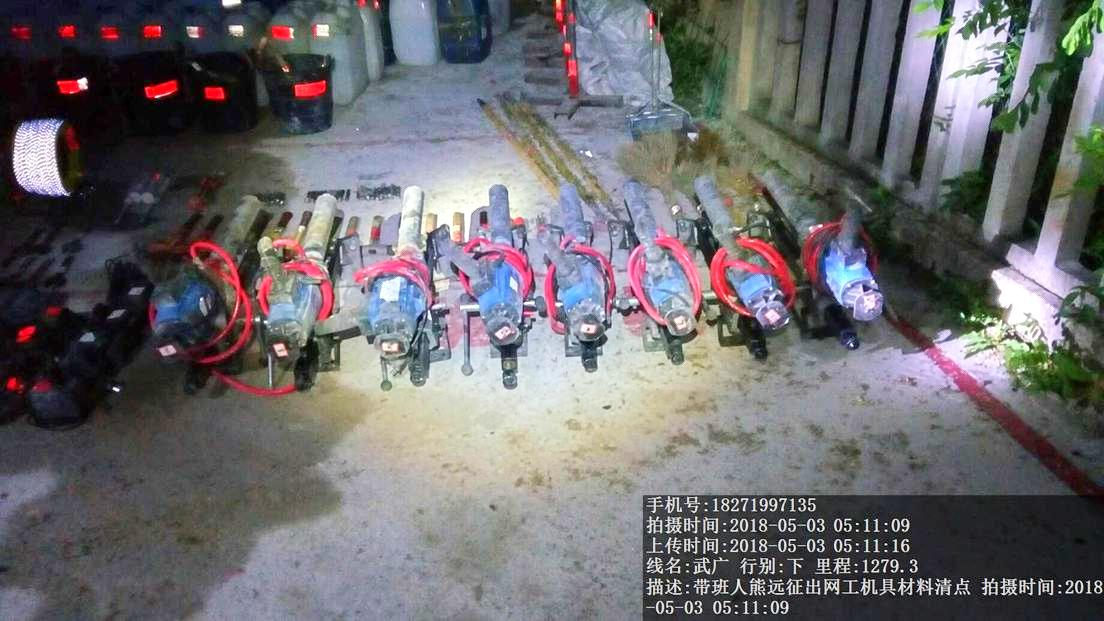GFJ: (763, 165, 892, 321), (342, 192, 444, 371), (254, 191, 343, 381), (445, 185, 537, 363), (691, 174, 791, 336), (614, 182, 704, 351), (535, 182, 617, 357)
SB: (704, 128, 773, 215), (622, 133, 685, 217)
